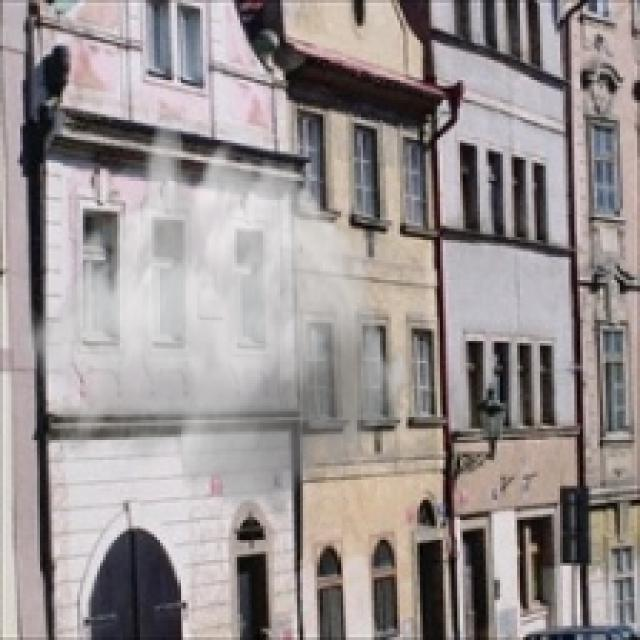smoke: (17, 111, 414, 532)
